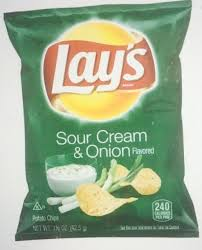lays-med: (5, 14, 190, 236)
